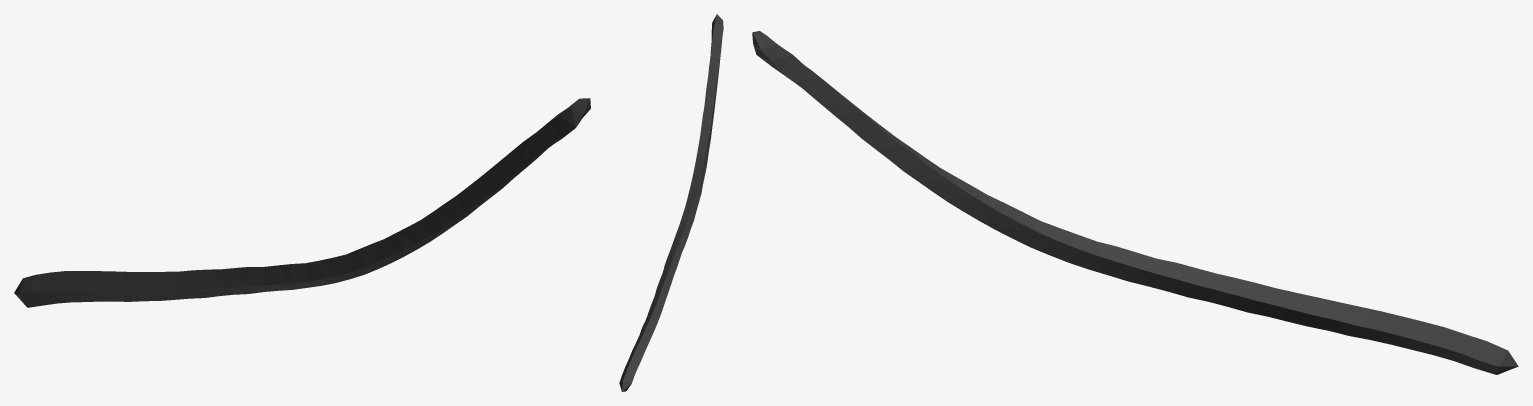
File: Inguinal_ligament.glb
3 views of the same model, side by side, from view 1: azimuth 30°, elevation 25°; view 2: azimuth 150°, elevation 25°; view 3: azimuth 270°, elevation 25° (orthographic). The views are drawn at different scales.
Parts seen in each view (by area): view 1: Inguinal_ligament; view 2: Inguinal_ligament; view 3: Inguinal_ligament.
Part boxes in pixels (bbox=[...]): Inguinal_ligament: bbox=[14, 98, 590, 307]; Inguinal_ligament: bbox=[619, 14, 723, 391]; Inguinal_ligament: bbox=[752, 31, 1518, 374].
Bounding box in the file's own units: 0.1163 × 0.2356 × 0.3756.
Materials: 1 (1 with a texture image).
